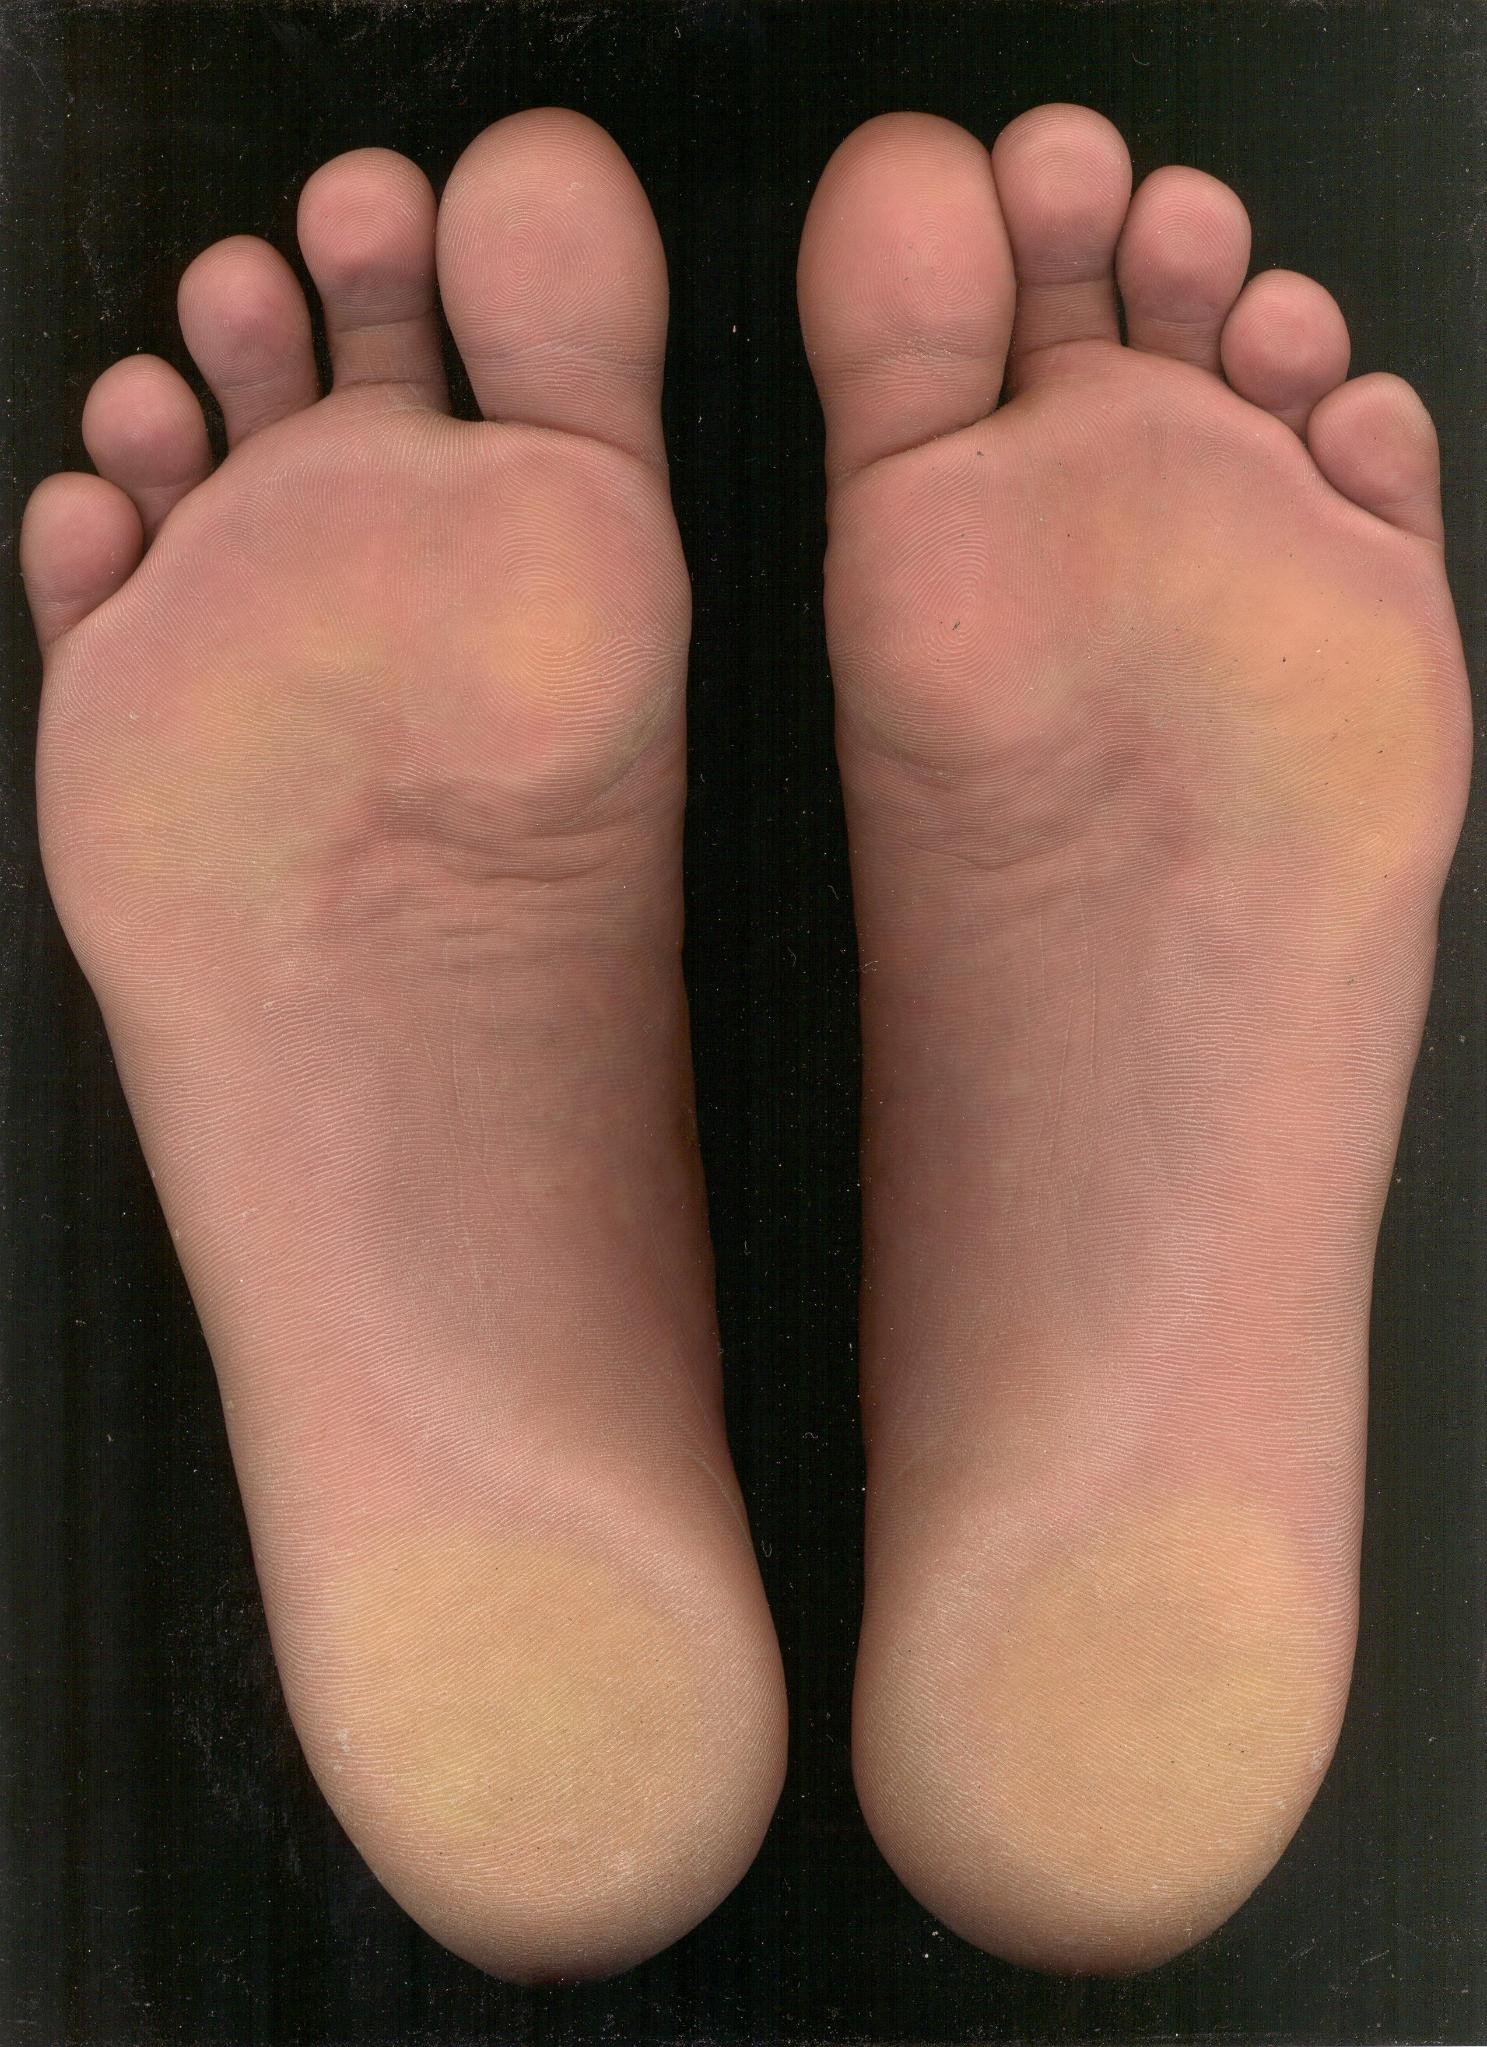Present: (17, 81, 804, 2007), (818, 100, 1476, 2012)
